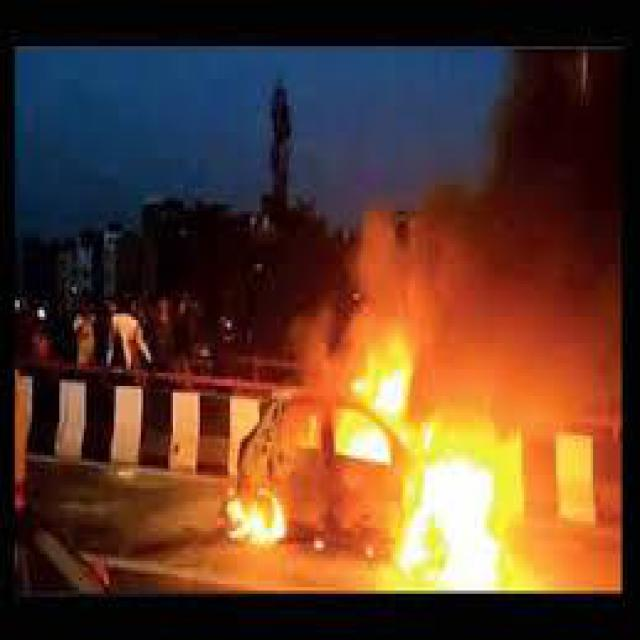fire: (228, 338, 530, 588)
